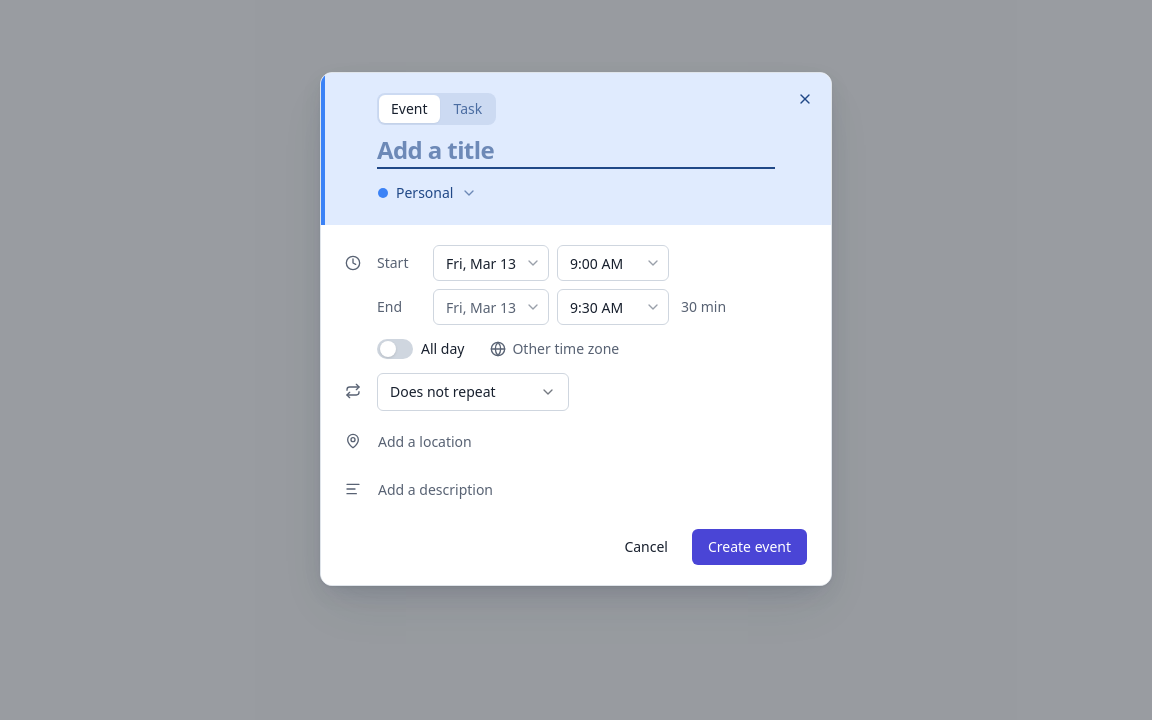
it: EditorDialog › a switch with a date its field could not read › names the repeat presets of the task after today, without another date that can be read
Step 1. Click the dropdown labelled "Start" → click(491, 263), box [433, 245, 549, 281]
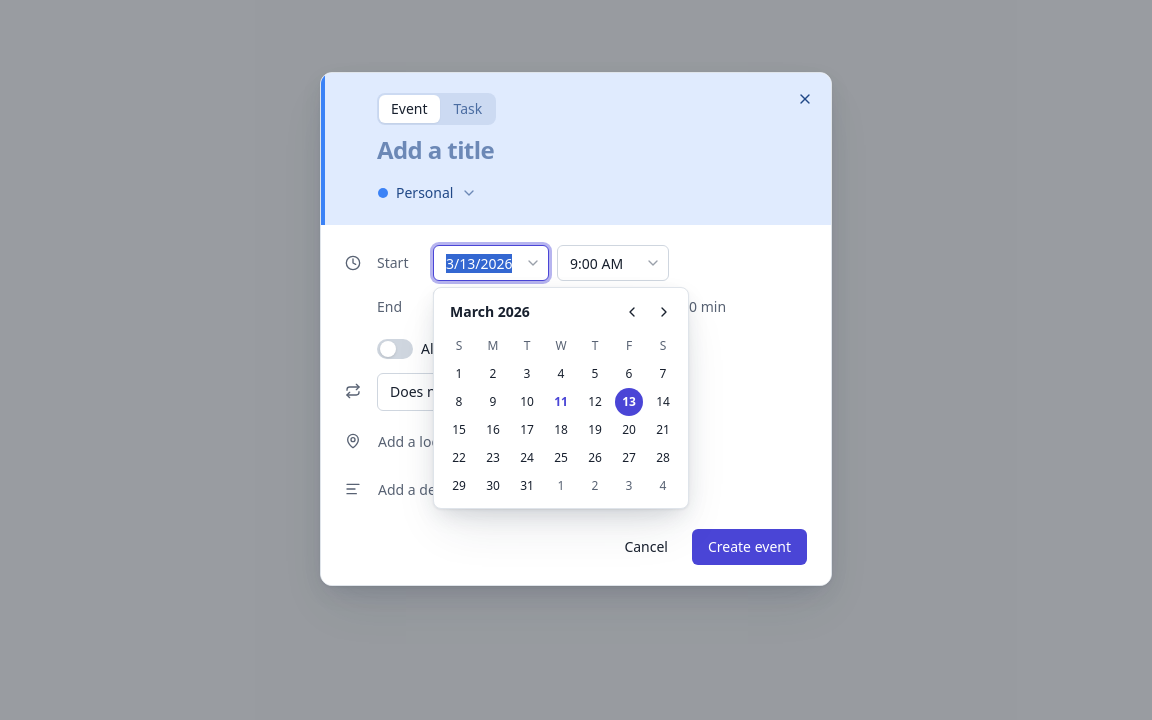
Step 2. Type keys "13/45"
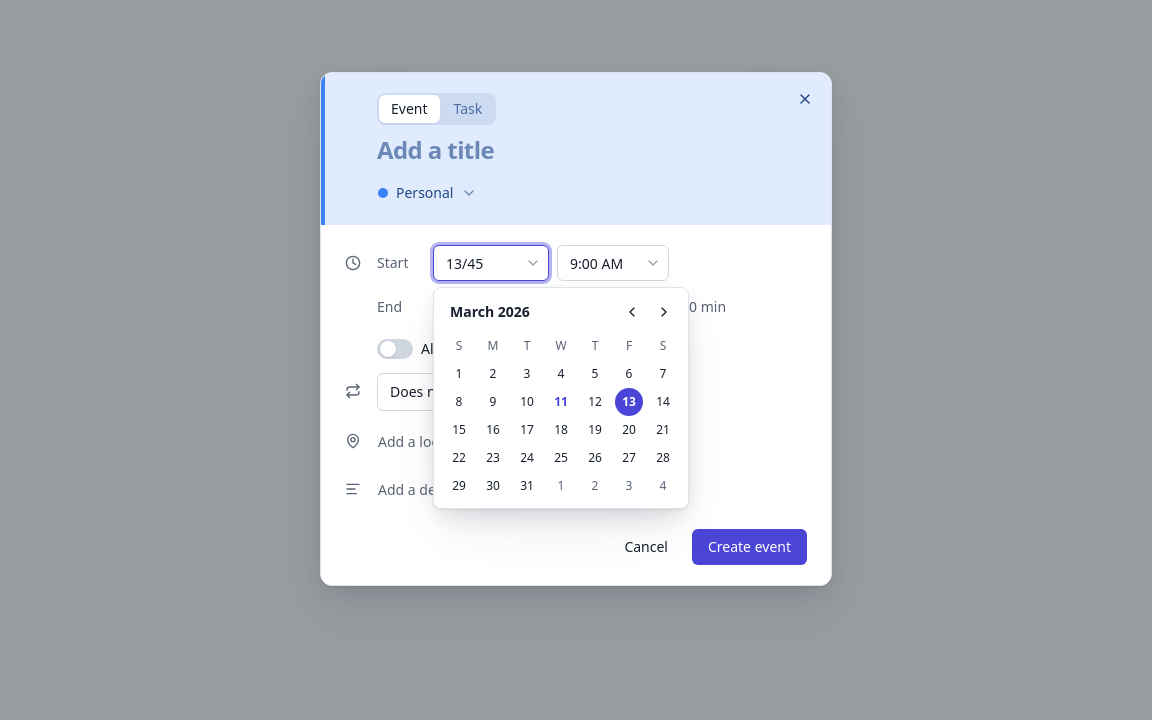
Step 3. Press Tab
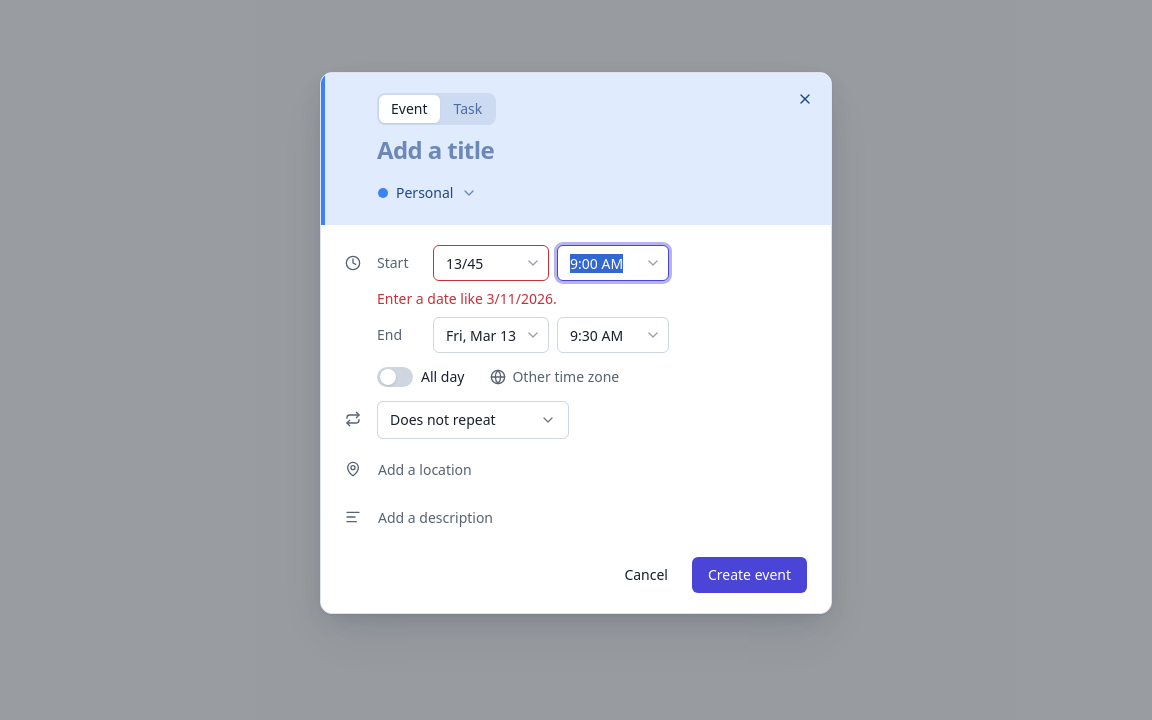
Step 4. Click the radio button "Task" → click(468, 109), box [442, 95, 494, 123]
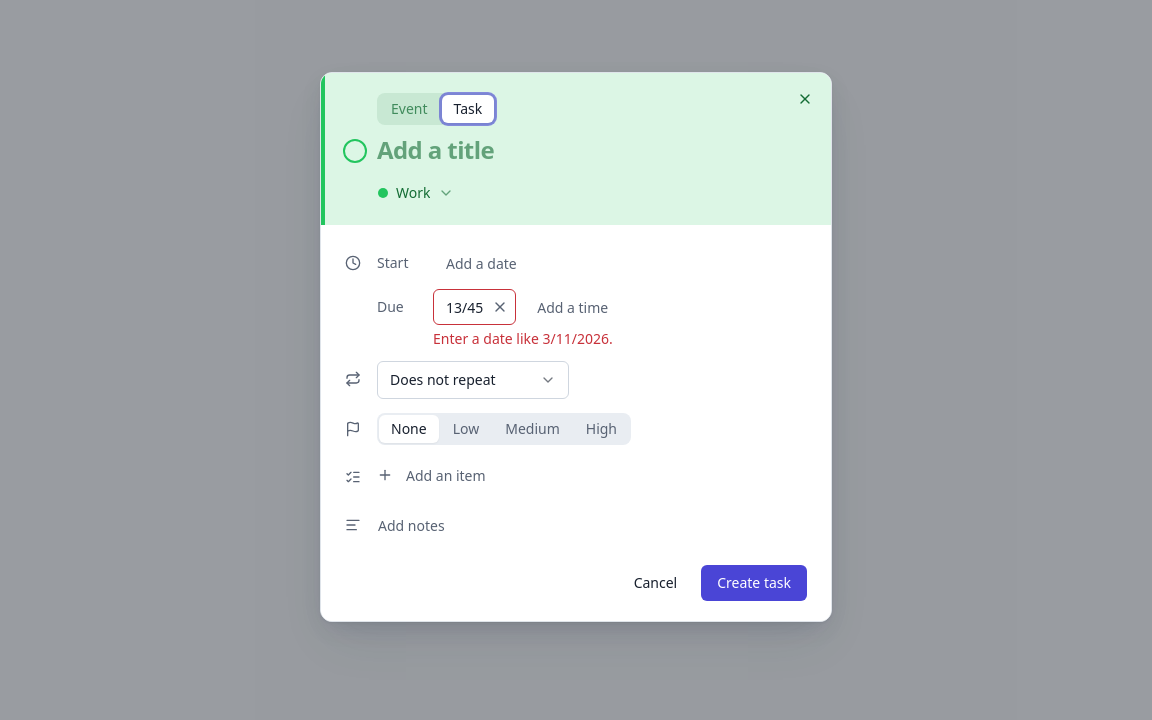
Now the dropdown labelled "Due" holds "13/45", box [433, 289, 516, 325]
Step 5. Click the dropdown labelled "repeat" → click(473, 380), box [377, 361, 569, 399]
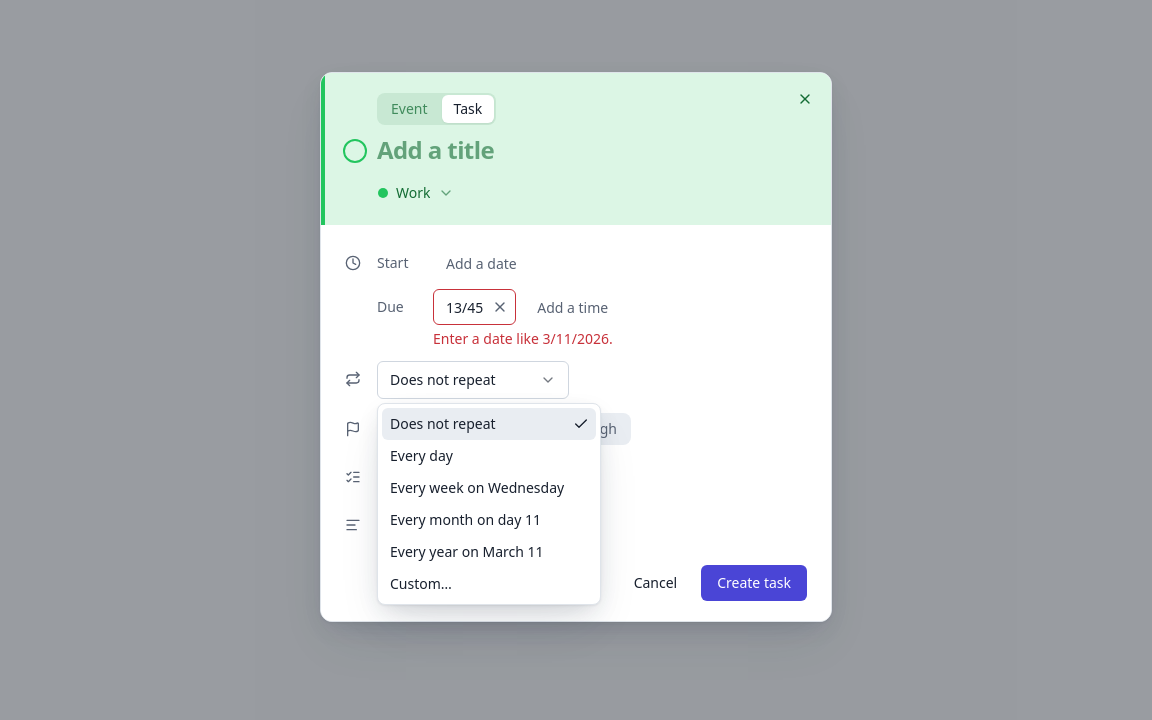
Now the option "Every week on Wednesday" is shown, box [390, 478, 564, 497]
